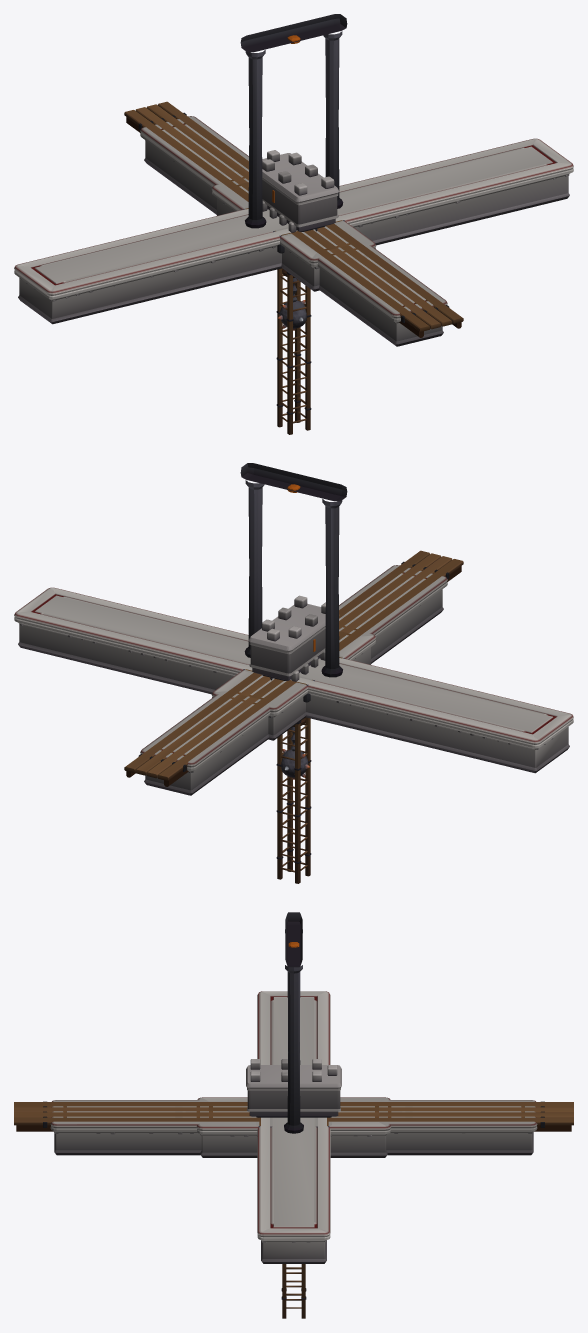
Rendered from fortress-2-CzDdWFRK.glb.
3 views of the same model, one above another, from view 1: azimuth 30°, elevation 25°; view 2: azimuth 150°, elevation 25°; view 3: azimuth 270°, elevation 25° (orthographic). The views are drawn at different scales.
Visible parts, largest first — view 1: block_47.29999999999927x2x6#0, block_4x2x46_plank#0, block_5x2x40#1, pressFrame_5x6x2x7#0, spout_2x6#0, truss_18#0, block_6x2x16#1, block_44x2x4_grate#0, blade_3x10x1_wheel#0; view 2: block_47.29999999999927x2x6#0, block_4x2x46_plank#0, block_5x2x40#1, pressFrame_5x6x2x7#0, spout_2x6#0, truss_18#0, block_6x2x16#1, block_44x2x4_grate#0, blade_3x10x1_wheel#0; view 3: block_47.29999999999927x2x6#0, block_5x2x40#1, block_4x2x46_plank#0, block_6x2x16#1, spout_2x6#0, pressFrame_5x6x2x7#0, block_44x2x4_grate#0, beam_2x1.5x14#1, truss_18#0.
Boxes of the visible parts, left/top/right/bottom form: block_47.29999999999927x2x6#0: left=14, top=138, right=573, bottom=324; block_4x2x46_plank#0: left=124, top=101, right=463, bottom=337; block_5x2x40#1: left=140, top=116, right=447, bottom=346; pressFrame_5x6x2x7#0: left=240, top=14, right=347, bottom=228; spout_2x6#0: left=248, top=150, right=339, bottom=232; truss_18#0: left=276, top=268, right=311, bottom=434; block_6x2x16#1: left=211, top=178, right=376, bottom=291; block_44x2x4_grate#0: left=40, top=147, right=548, bottom=283; blade_3x10x1_wheel#0: left=278, top=278, right=306, bottom=330; block_47.29999999999927x2x6#0: left=14, top=587, right=573, bottom=773; block_4x2x46_plank#0: left=124, top=550, right=463, bottom=786; block_5x2x40#1: left=140, top=565, right=447, bottom=795; pressFrame_5x6x2x7#0: left=240, top=463, right=347, bottom=677; spout_2x6#0: left=248, top=595, right=339, bottom=681; truss_18#0: left=276, top=717, right=311, bottom=883; block_6x2x16#1: left=211, top=627, right=376, bottom=740; block_44x2x4_grate#0: left=39, top=596, right=547, bottom=732; blade_3x10x1_wheel#0: left=281, top=727, right=309, bottom=779; block_47.29999999999927x2x6#0: left=257, top=991, right=330, bottom=1263; block_5x2x40#1: left=50, top=1100, right=537, bottom=1155; block_4x2x46_plank#0: left=14, top=1101, right=573, bottom=1131; block_6x2x16#1: left=196, top=1097, right=391, bottom=1157; spout_2x6#0: left=246, top=1059, right=341, bottom=1117; pressFrame_5x6x2x7#0: left=284, top=912, right=303, bottom=1133; block_44x2x4_grate#0: left=270, top=1000, right=317, bottom=1224; beam_2x1.5x14#1: left=208, top=1107, right=379, bottom=1116; truss_18#0: left=281, top=1264, right=306, bottom=1318.
Bounding box in the file's own units: 47.3 × 34.4 × 46.
